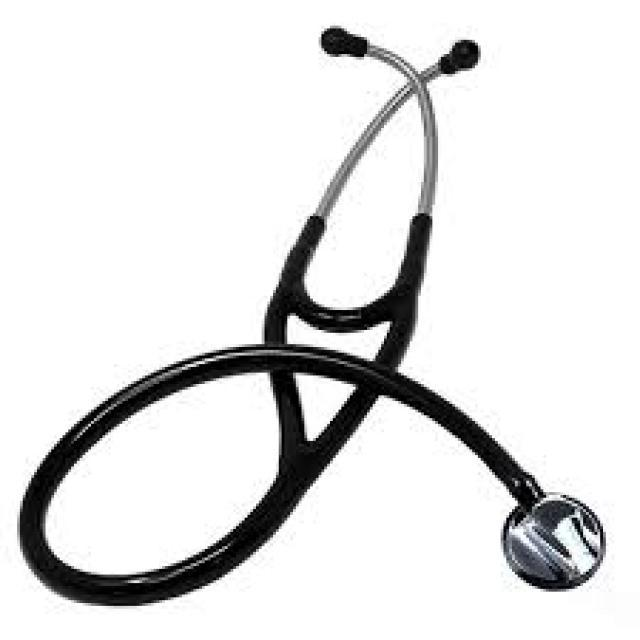stethoscope: (10, 14, 628, 593)
